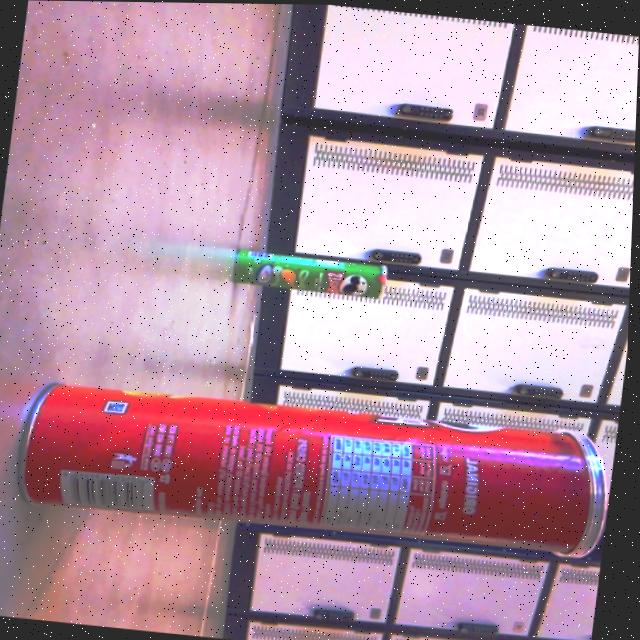greenpringles: (213, 224, 411, 310)
redpringles: (0, 356, 623, 575)
